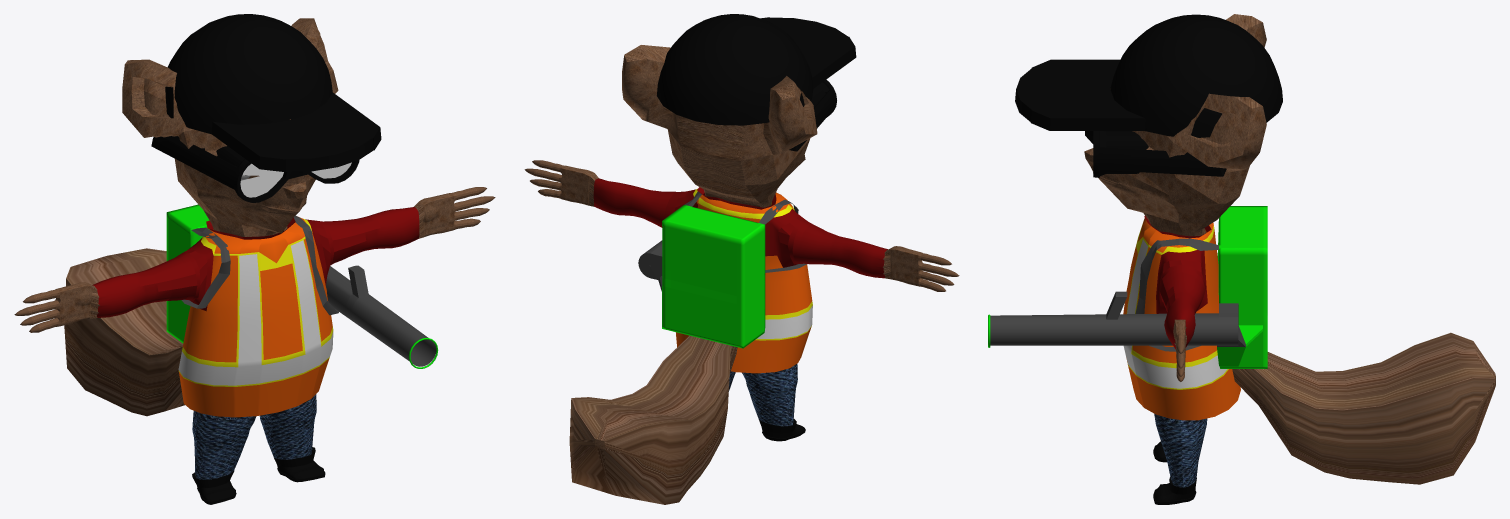
The model's file is 05.01.18_Version2.fbx.
3 renders of one model, left to right at view 1: azimuth 30°, elevation 25°; view 2: azimuth 150°, elevation 25°; view 3: azimuth 270°, elevation 25°, orthographic. The views are drawn at different scales.
Parts seen in each view (by area): view 1: Glasses3; view 2: Glasses3; view 3: Glasses3.
Part boxes in pixels (x1,y1,x2,y2): Glasses3: [14, 14, 495, 504]; Glasses3: [524, 14, 959, 504]; Glasses3: [988, 14, 1495, 504].
Bounding box in the file's own units: 11.43 × 10.3 × 10.45.
15 materials, 4 textured.
